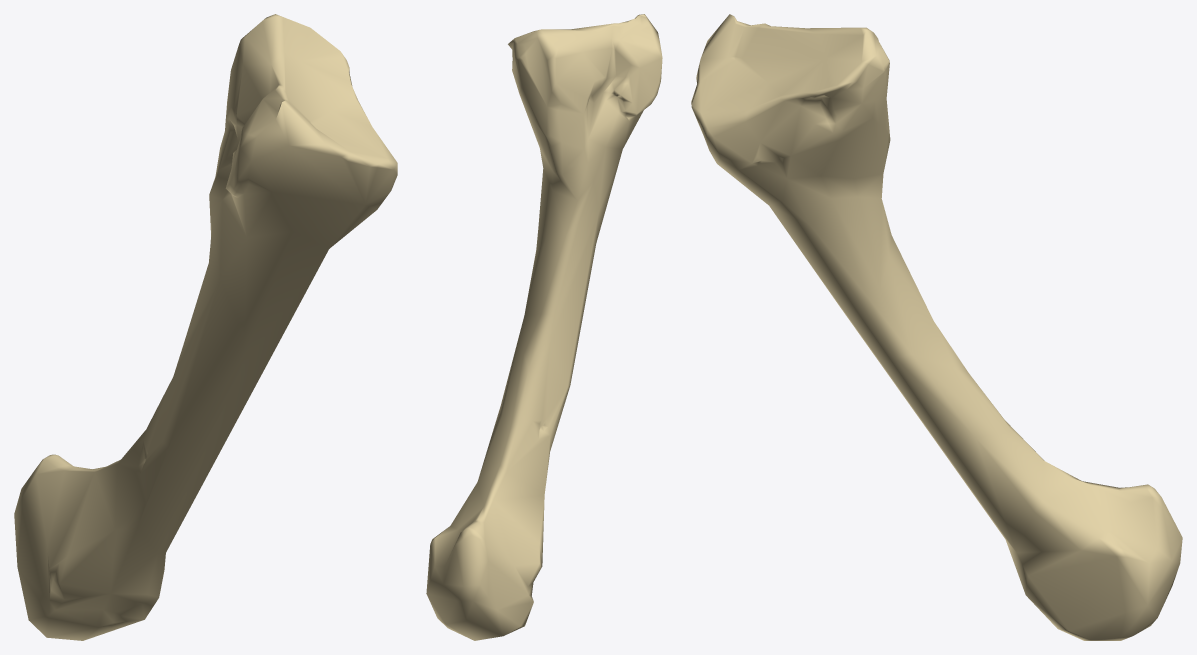
3 views of the same model, side by side, from view 1: azimuth 30°, elevation 25°; view 2: azimuth 150°, elevation 25°; view 3: azimuth 270°, elevation 25° (orthographic). The views are drawn at different scales.
Visible parts, largest first — view 1: 右侧第二跖骨; view 2: 右侧第二跖骨; view 3: 右侧第二跖骨.
Part boxes in pixels (x1,y1,x2,y2): 右侧第二跖骨: [14, 14, 397, 640]; 右侧第二跖骨: [426, 14, 662, 640]; 右侧第二跖骨: [691, 14, 1182, 640].
Bounding box in the file's own units: 0.0256 × 0.1038 × 0.0735.
